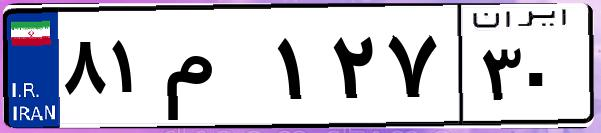0: (525, 38, 570, 115)
1: (270, 28, 330, 110), (110, 28, 158, 98)
2: (330, 28, 385, 110)
3: (475, 38, 525, 113)
7: (385, 28, 445, 110)
8: (57, 26, 110, 100)
م: (158, 20, 270, 120)
